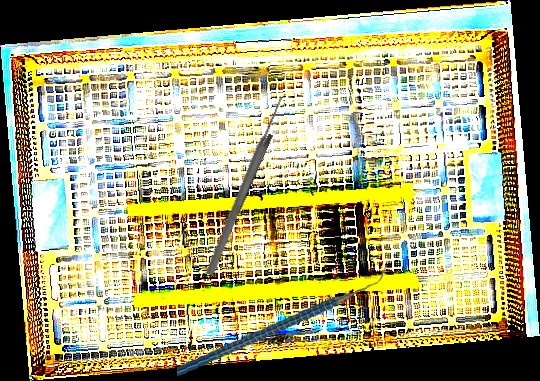Chopper: (169, 261, 395, 378)
Pusher: (204, 95, 287, 277)
Spatula Surgical: (216, 132, 275, 251)
